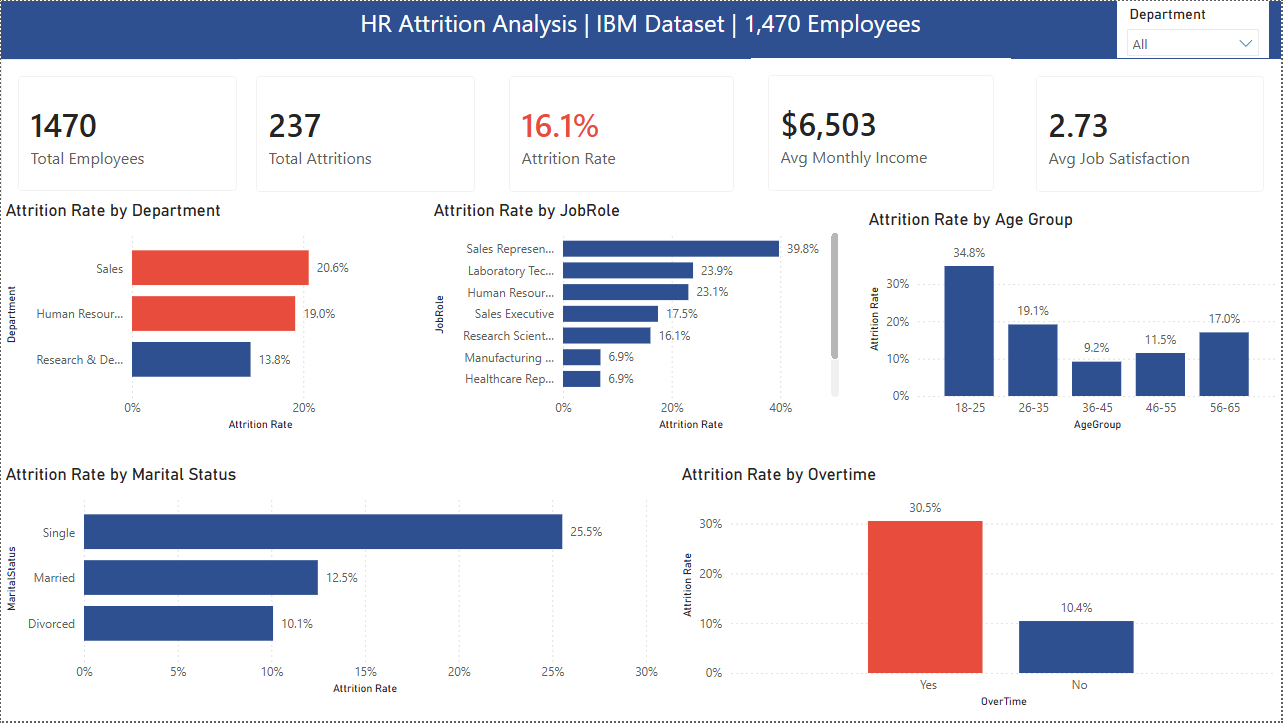

The dashboard page shown, as its layout file describes it:
{"tool":"powerbi","page":{"name":"Executive Summary","canvas":[1280,720],"ordinal":0},"visuals":[{"type":"textbox","box":[0,0,1280,57.7],"z":0},{"type":"cardVisual","fields":{"Data":["HR_Attrition_Cleaned.Total Employees"]},"box":[0,57.7,253.3,149.6],"z":1000},{"type":"cardVisual","fields":{"Data":["HR_Attrition_Cleaned.Total Attritions"]},"box":[237.6,57.7,253.3,150.6],"z":2000},{"type":"cardVisual","fields":{"Data":["HR_Attrition_Cleaned.Attrition Rate"]},"box":[490.9,57.7,259.1,150.6],"z":3000},{"type":"cardVisual","fields":{"Data":["HR_Attrition_Cleaned.Avg Monthly Income"]},"box":[750,56.7,260.1,150.6],"z":4000},{"type":"cardVisual","fields":{"Data":["HR_Attrition_Cleaned.Avg Job Satisfaction"]},"box":[1017.9,57.7,262.1,150.6],"z":5000},{"type":"clusteredBarChart","fields":{"Category":["HR_Attrition_Cleaned.Department"],"Y":["HR_Attrition_Cleaned.Attrition Rate"]},"box":[0,198.5,404.8,235.7],"z":6000},{"type":"clusteredBarChart","fields":{"Y":["HR_Attrition_Cleaned.Attrition Rate"],"Category":["HR_Attrition_Cleaned.JobRole"]},"box":[428.3,198.5,414.6,235.7],"z":7000},{"type":"clusteredColumnChart","title":"Attrition Rate by Age Group","fields":{"Y":["HR_Attrition_Cleaned.Attrition Rate"],"Category":["HR_Attrition_Cleaned.AgeGroup"]},"box":[863.4,208.3,416.6,225.9],"z":8000},{"type":"clusteredBarChart","title":"Attrition Rate by Marital Status","fields":{"Category":["HR_Attrition_Cleaned.MaritalStatus"],"Y":["HR_Attrition_Cleaned.Attrition Rate"]},"box":[0,462.5,662,235.7],"z":9000},{"type":"clusteredColumnChart","title":"Attrition Rate by Overtime","fields":{"Category":["HR_Attrition_Cleaned.OverTime"],"Y":["HR_Attrition_Cleaned.Attrition Rate"]},"box":[675.7,462.5,604.3,248.4],"z":10000},{"type":"slicer","fields":{"Values":["HR_Attrition_Cleaned.Department"]},"box":[1115.7,0,152.5,56.7],"z":11000}]}

Visuals, with their boxes in screenshot pixels (x1, y1, x2, y2), scaled from the page's 1280x720 canvas onto the 1283x723 screenshot:
textbox: 0:0:1282:58
cardVisual - HR_Attrition_Cleaned.Total Employees: 0:58:254:208
cardVisual - HR_Attrition_Cleaned.Total Attritions: 238:58:492:209
cardVisual - HR_Attrition_Cleaned.Attrition Rate: 492:58:752:209
cardVisual - HR_Attrition_Cleaned.Avg Monthly Income: 752:57:1012:208
cardVisual - HR_Attrition_Cleaned.Avg Job Satisfaction: 1020:58:1282:209
clusteredBarChart - HR_Attrition_Cleaned.Department x HR_Attrition_Cleaned.Attrition Rate: 0:199:406:436
clusteredBarChart - HR_Attrition_Cleaned.Attrition Rate x HR_Attrition_Cleaned.JobRole: 429:199:845:436
"Attrition Rate by Age Group" clusteredColumnChart: 865:209:1282:436
"Attrition Rate by Marital Status" clusteredBarChart: 0:464:664:701
"Attrition Rate by Overtime" clusteredColumnChart: 677:464:1282:714
slicer - HR_Attrition_Cleaned.Department: 1118:0:1271:57
